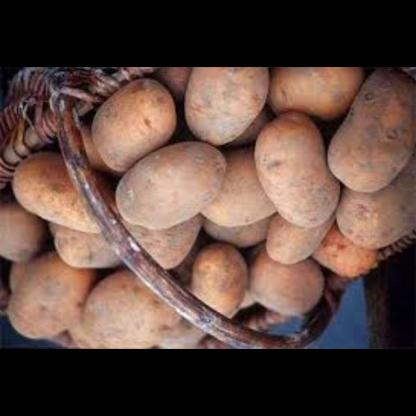potato: (111, 138, 242, 234), (324, 68, 416, 200), (258, 112, 340, 237), (7, 156, 118, 242), (10, 254, 110, 344), (93, 82, 181, 180), (187, 68, 271, 154), (259, 68, 372, 125), (180, 248, 254, 335), (198, 157, 286, 230), (82, 288, 179, 350), (120, 215, 214, 278), (334, 185, 416, 254), (244, 251, 327, 318), (260, 207, 339, 271), (311, 229, 381, 290)
